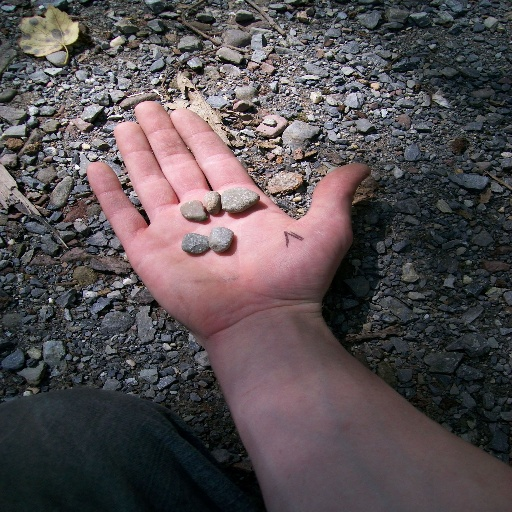hand: (85, 98, 375, 337)
